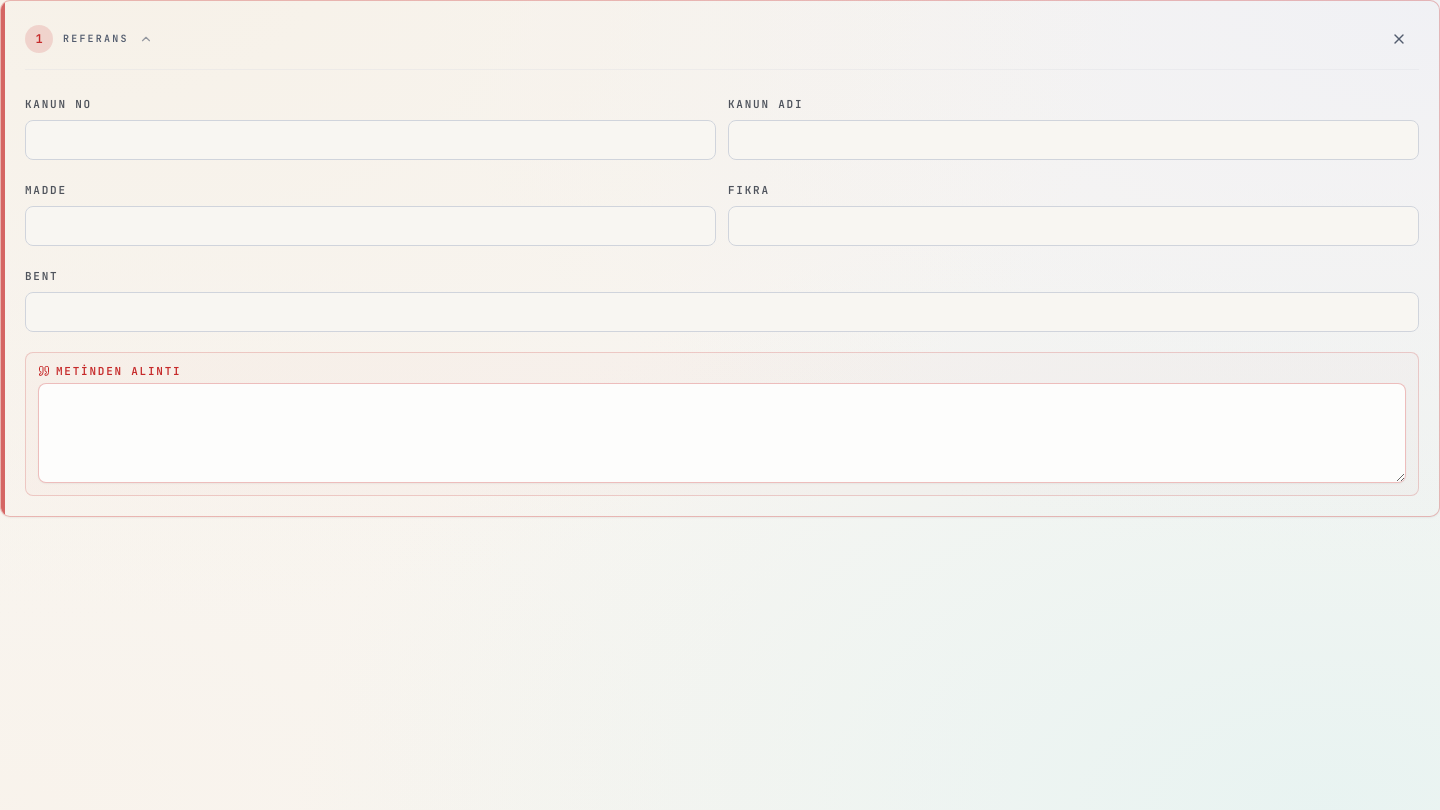
it: ReferenceCard › ReferenceCard blur auto-splitting and normalization › shows a bent cleanup warning and normalizes bent on blur
The width and height of the screenshot is (1440, 810).
Type "(A)" into the field labelled "Bent".
click(722, 312); type("(A)")  # box [25,292,1419,332]
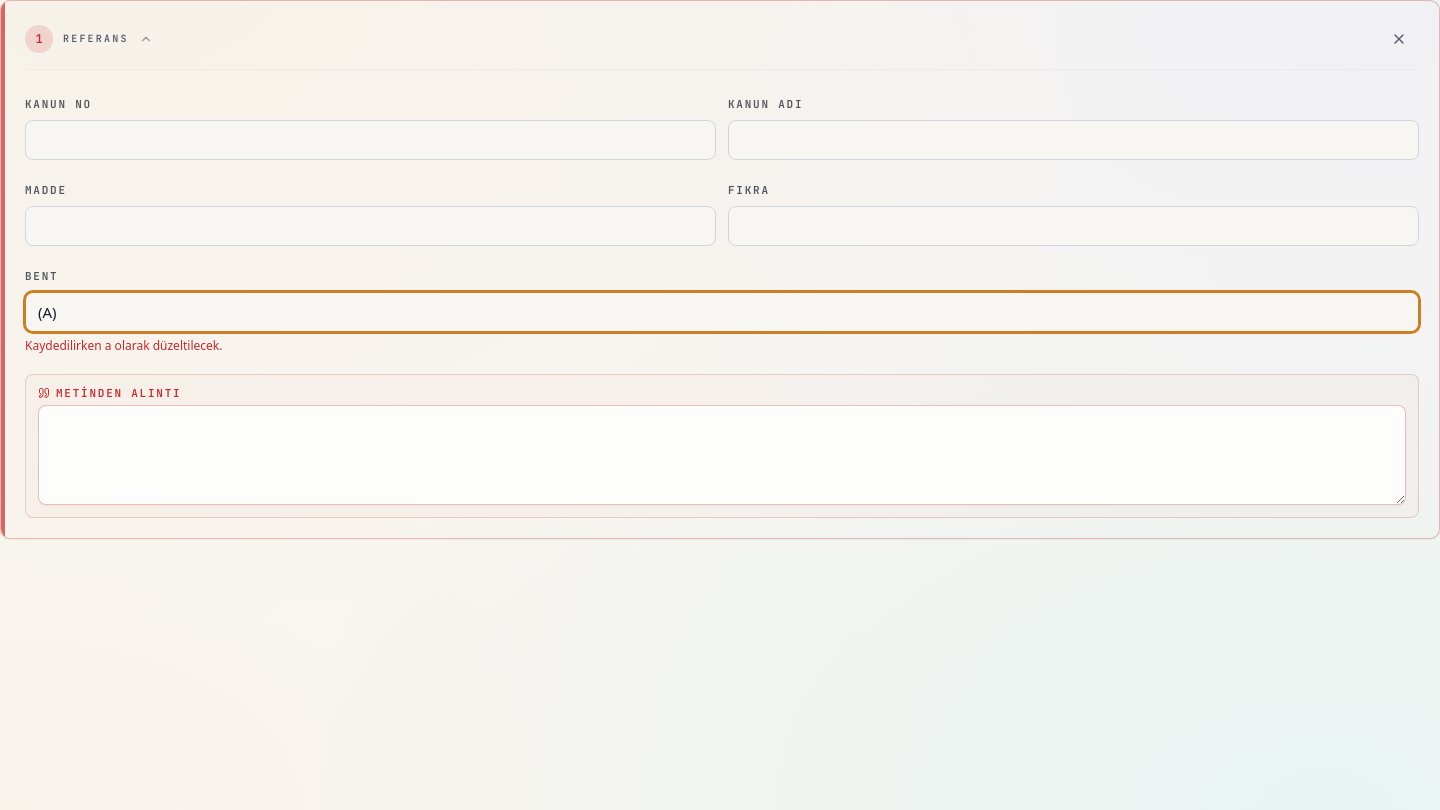
Check: the text "Kaydedilirken a olarak düzeltilecek." is shown, box [25,337,222,354]
Leave the field labelled "Bent", box [25,292,1419,332]
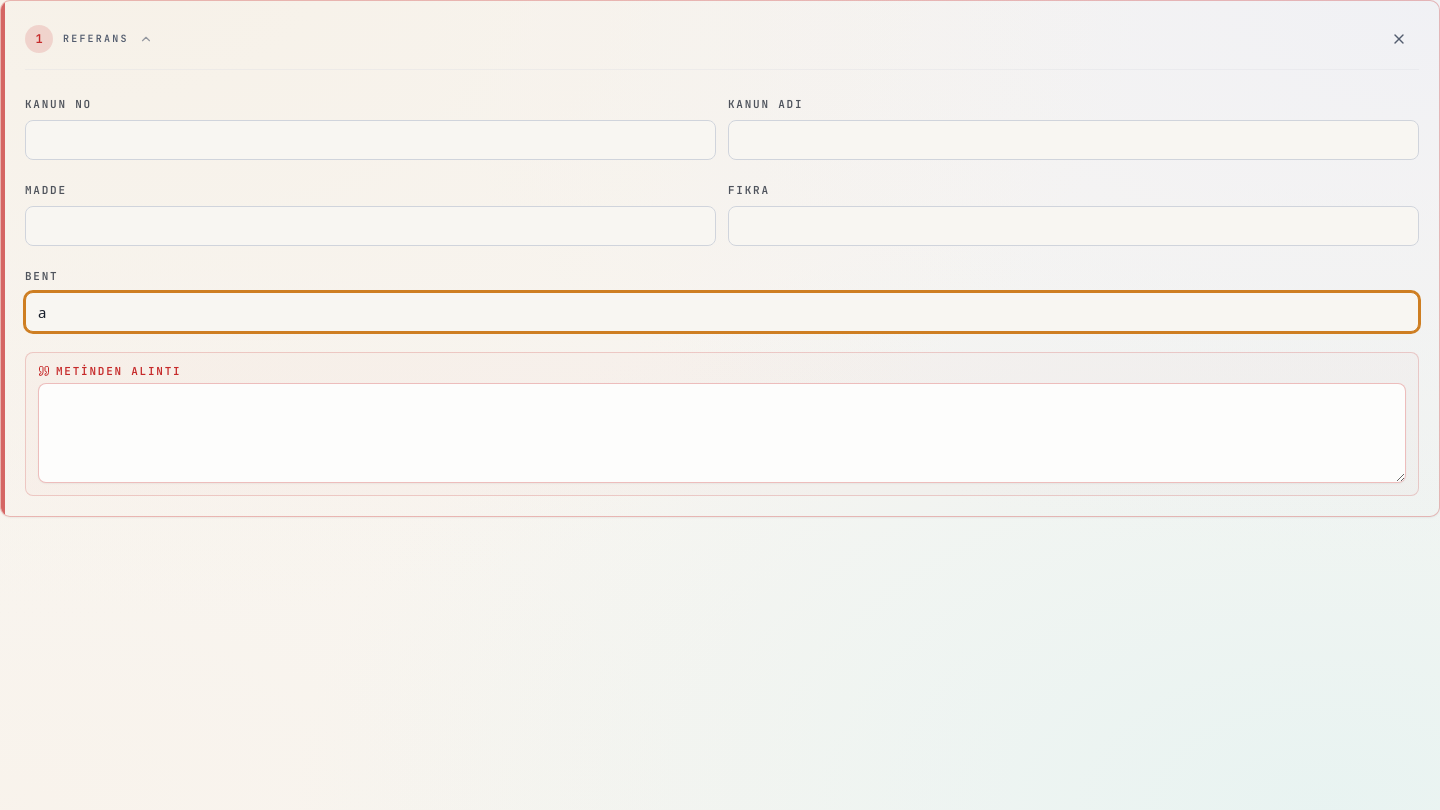
Check: the field labelled "Bent" holds "a", box [25,292,1419,332]
